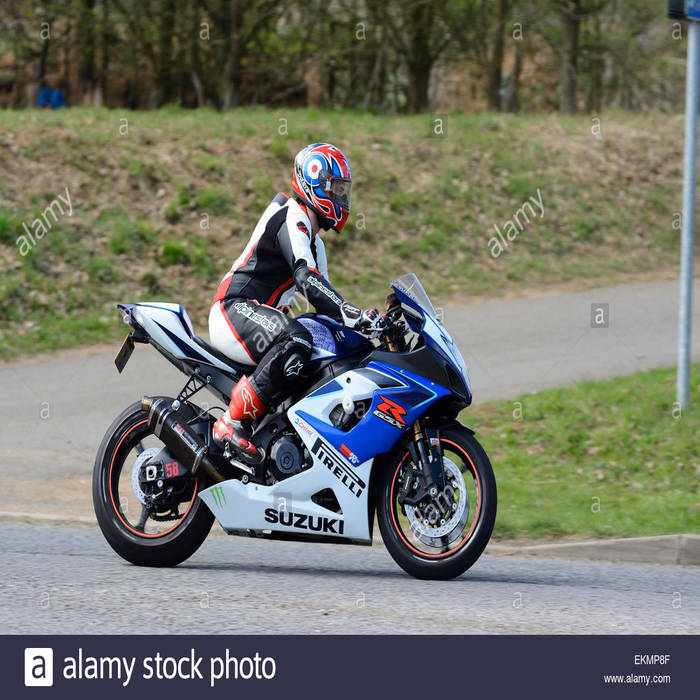h: (289, 139, 359, 235)
